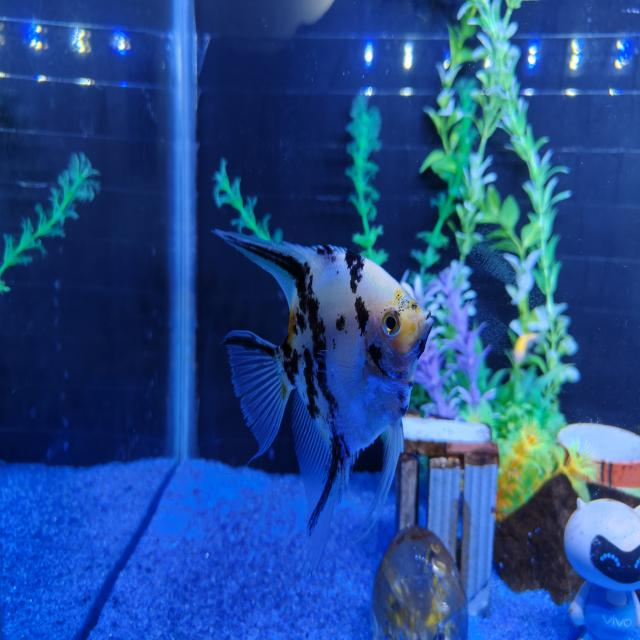Fish: (215, 230, 432, 571)
